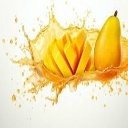mango: (43, 30, 93, 76)
